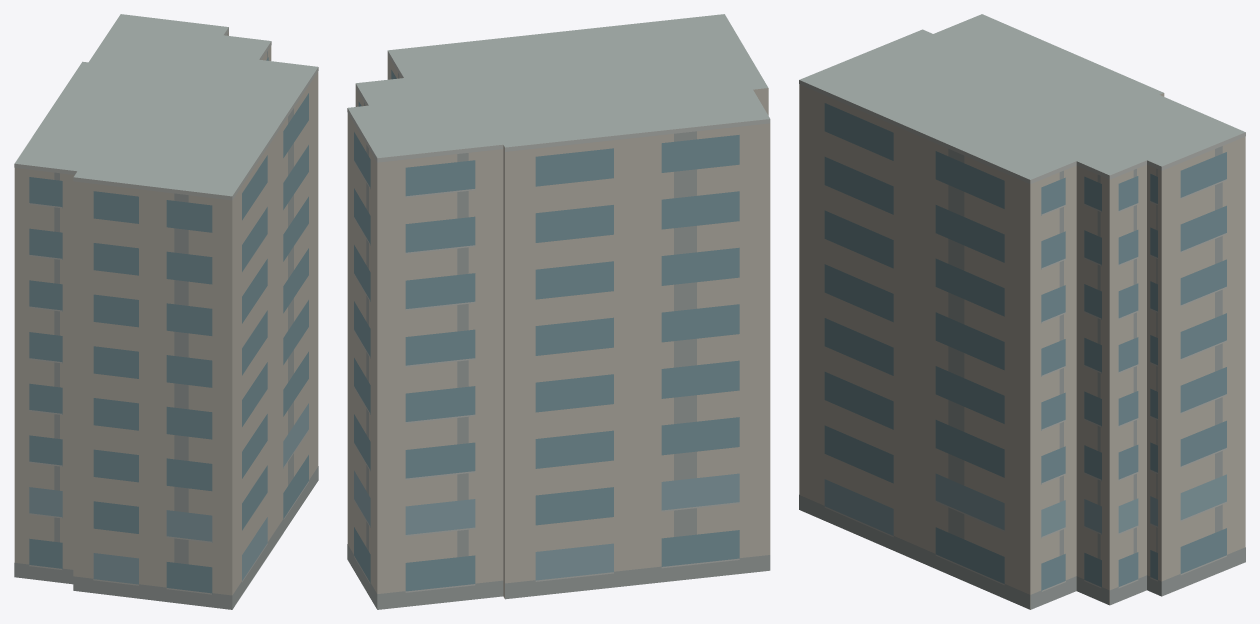
File: survey-upis-32593881.glb
The picture shows the model from 3 angles, left to right: view 1: azimuth 30°, elevation 25°; view 2: azimuth 150°, elevation 25°; view 3: azimuth 270°, elevation 25°; orthographic projection. The views are drawn at different scales.
Parts seen in each view (by area): view 1: survey-upis-32593881.tmp; view 2: survey-upis-32593881.tmp; view 3: survey-upis-32593881.tmp.
Part boxes in pixels (x1=…): survey-upis-32593881.tmp: x1=14, y1=14, x2=318, y2=609; survey-upis-32593881.tmp: x1=347, y1=14, x2=770, y2=609; survey-upis-32593881.tmp: x1=799, y1=14, x2=1245, y2=609.
Size of the model in its own units: 20.67 by 24.95 by 23.5.
